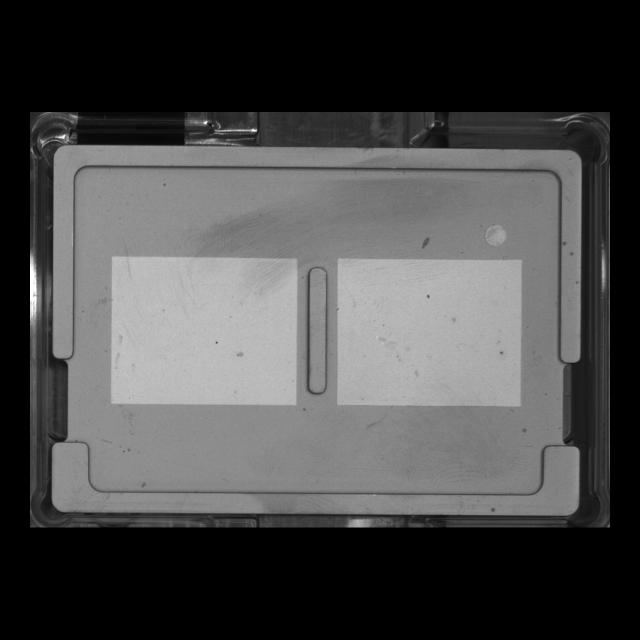door: (42, 424, 588, 524)
point: (482, 218, 512, 250)
